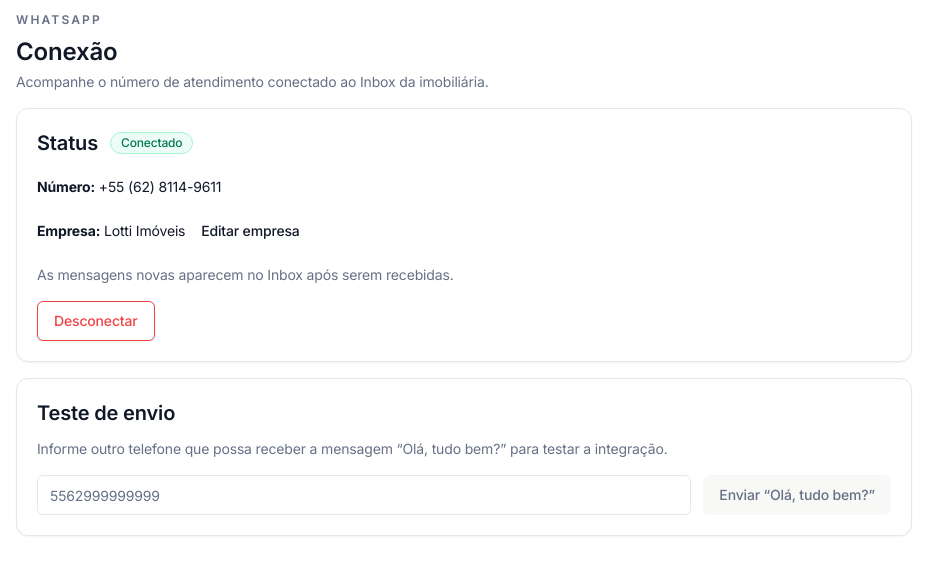
it: não usa o mesmo número conectado como destino do teste
In the field named "Telefone para teste": (364, 495) [37,475,691,515], type "+55 (62) 8114-9611"
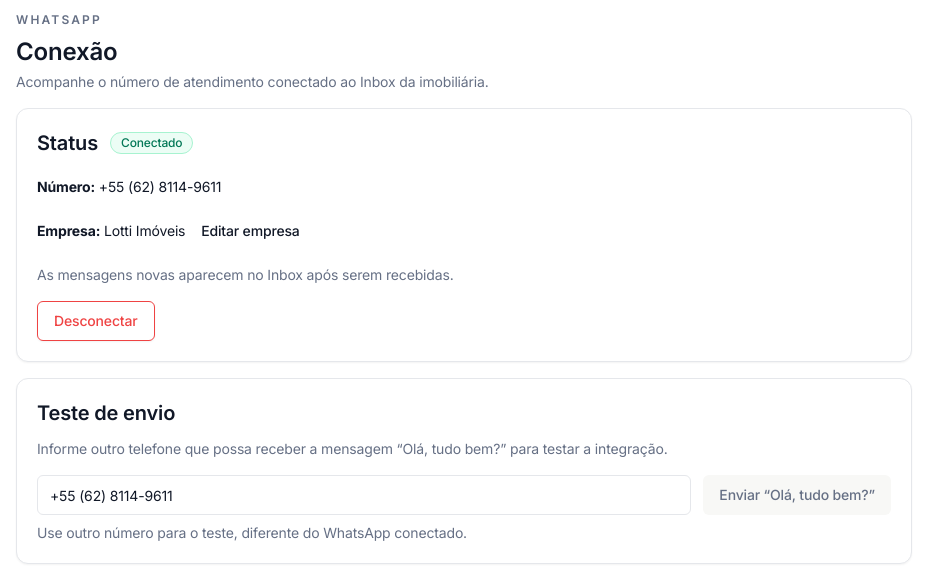
Check: the button "Enviar “Olá, tudo bem?”" is disabled, box [703,475,891,515]
Check: the text "outro número" is shown, box [37,524,467,541]
